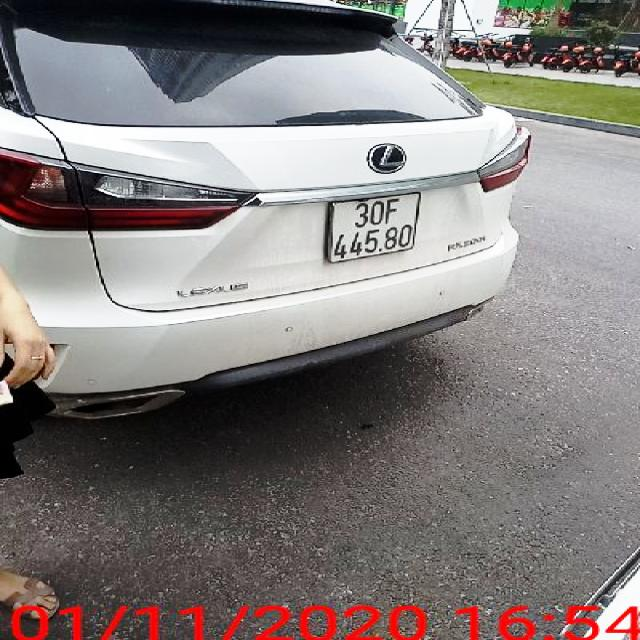license_plate: (330, 193, 421, 264)
